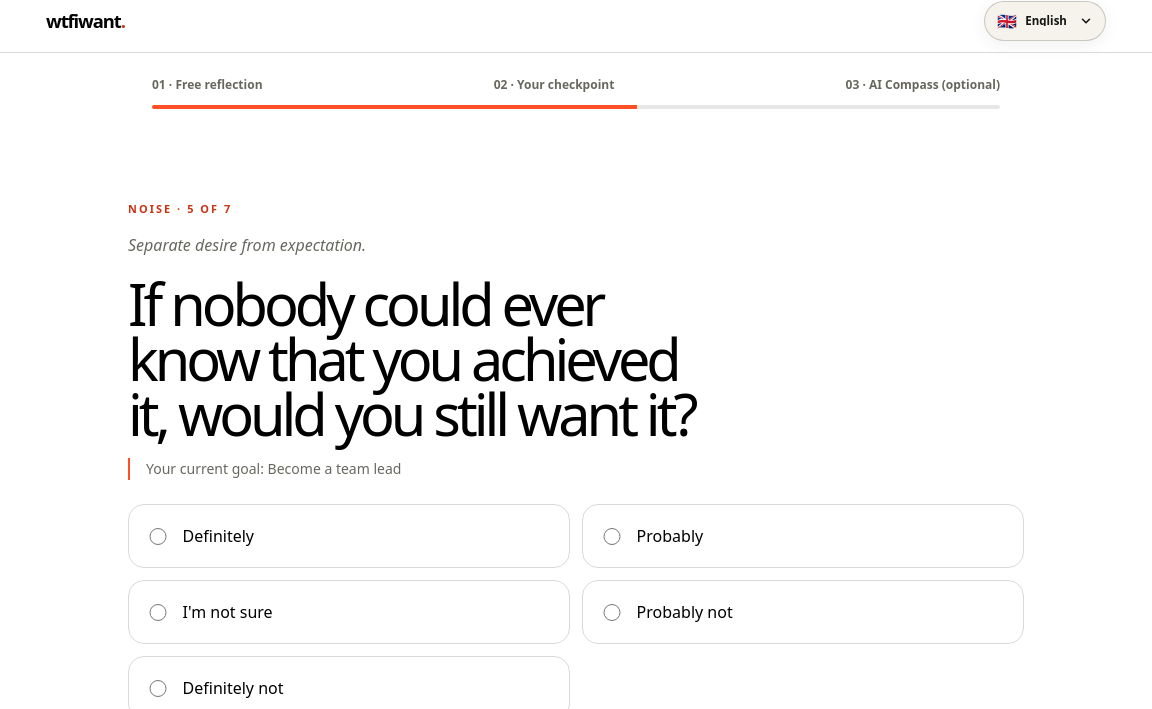
Test: reflection journey › uses a goal-dependent question without requesting an AI coach
The width and height of the screenshot is (1152, 709).
Expected: the text "Your current goal: Become a team lead" is shown, left=128, top=458, right=1024, bottom=480
What coordinates should you click on to do the following:
click the radio button labelled "Probably not"
I would click on:
 (612, 612)
Its box is left=603, top=604, right=621, bottom=621.
(page scrolled)
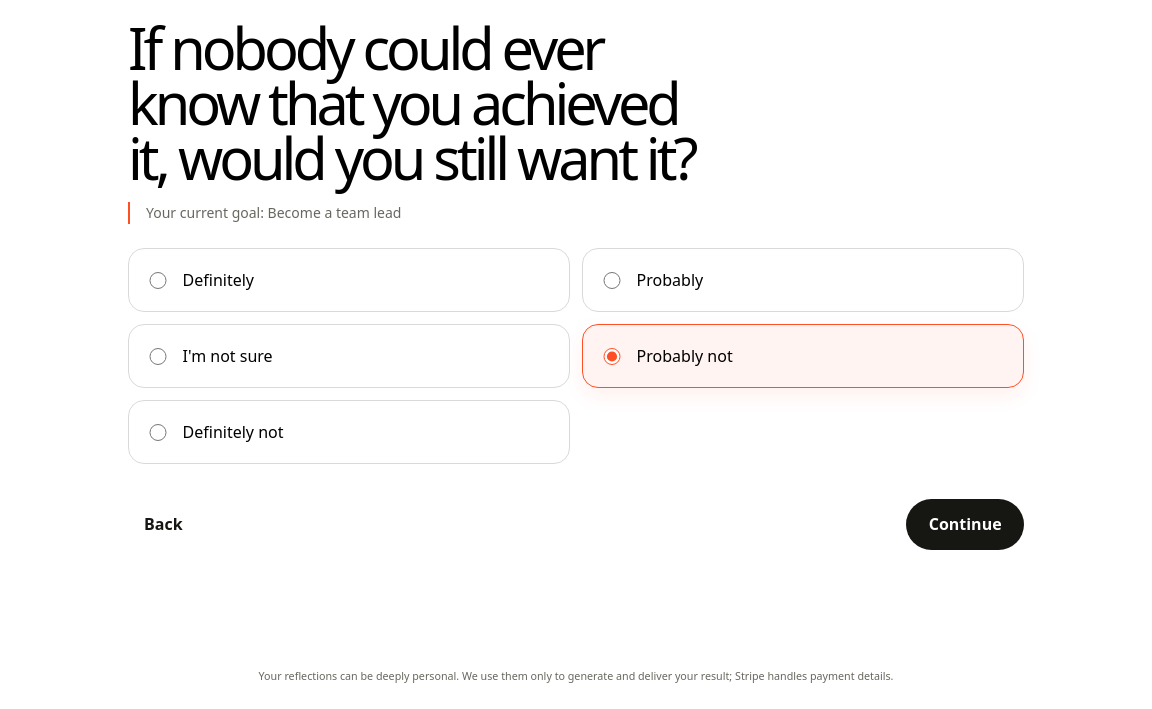
What coordinates should you click on to do the following:
click the button "Continue"
I would click on:
 (965, 524)
Its box is left=906, top=499, right=1024, bottom=550.
(page scrolled)
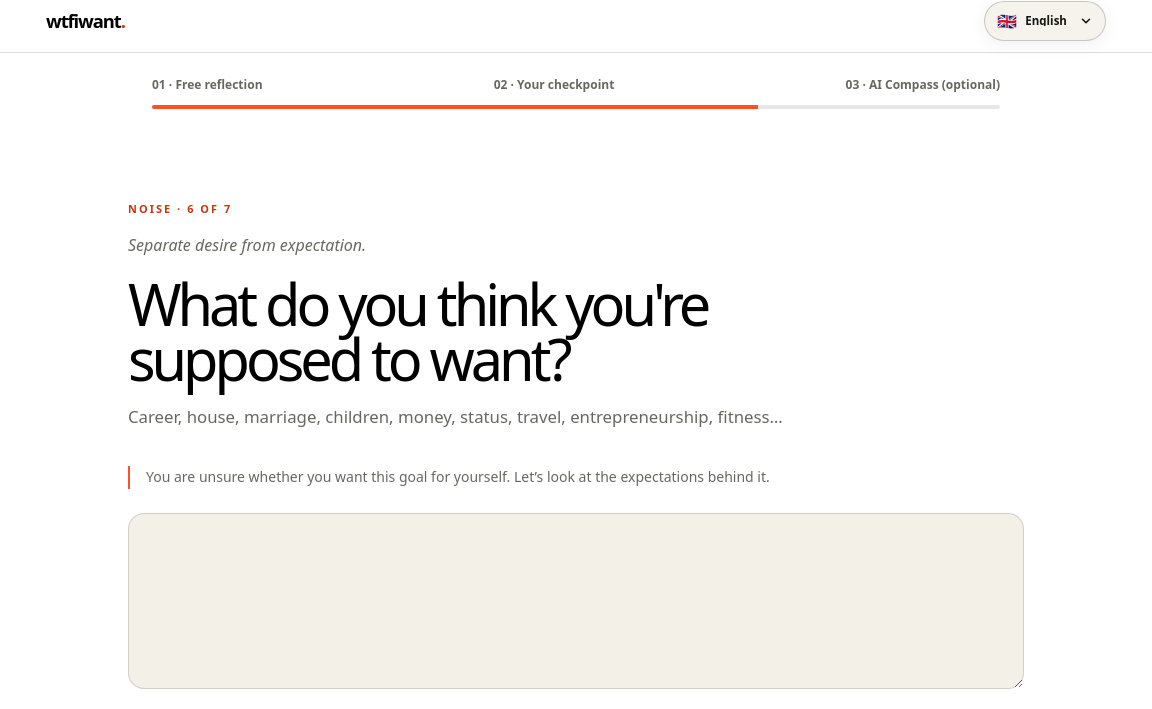
Expected: the heading "What do you think you're supposed to want?" is shown, left=128, top=278, right=721, bottom=387
